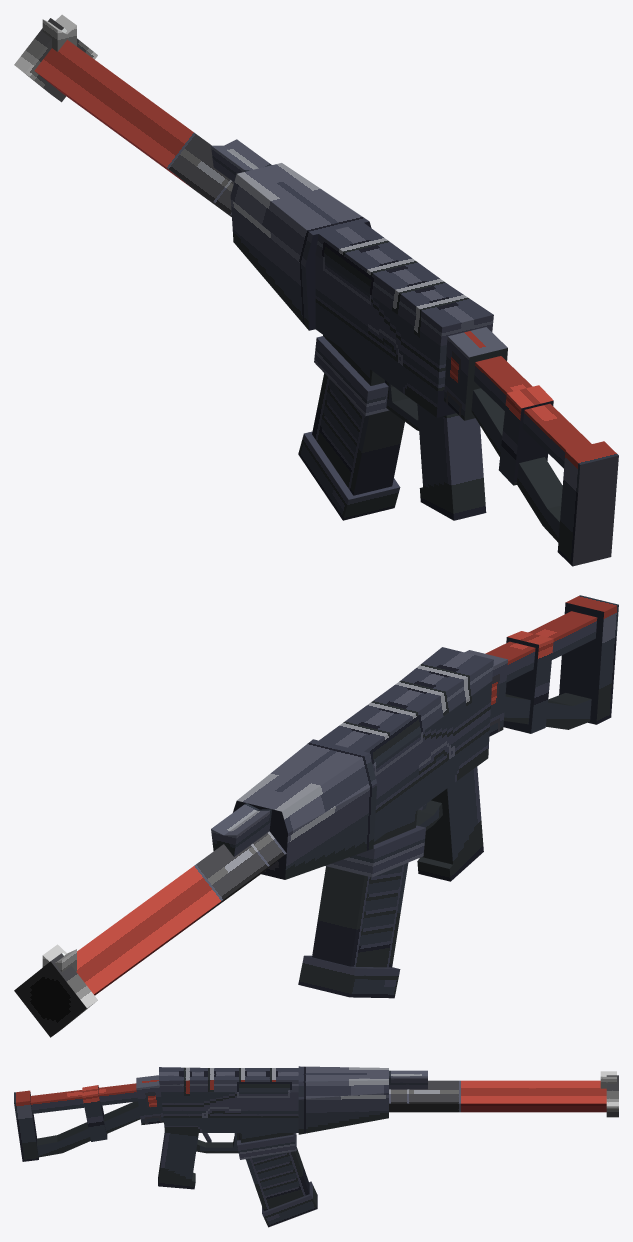
The model's file is asval-fun.gltf.
The picture shows the model from 3 angles, top to bottom: view 1: azimuth 30°, elevation 25°; view 2: azimuth 150°, elevation 25°; view 3: azimuth 270°, elevation 25°; orthographic projection. The views are drawn at different scales.
Parts seen in each view (by area): view 1: cube (×16); view 2: cube (×14); view 3: cube (×17).
Part boxes in pixels (x1=…): cube (×16): x1=14, y1=14, x2=618, y2=566; cube (×14): x1=14, y1=595, x2=618, y2=1037; cube (×17): x1=14, y1=1066, x2=618, y2=1227.
Size of the model in its own units: 0.3536 by 1.23 by 4.6.
Materials: 2 (2 with a texture image).
